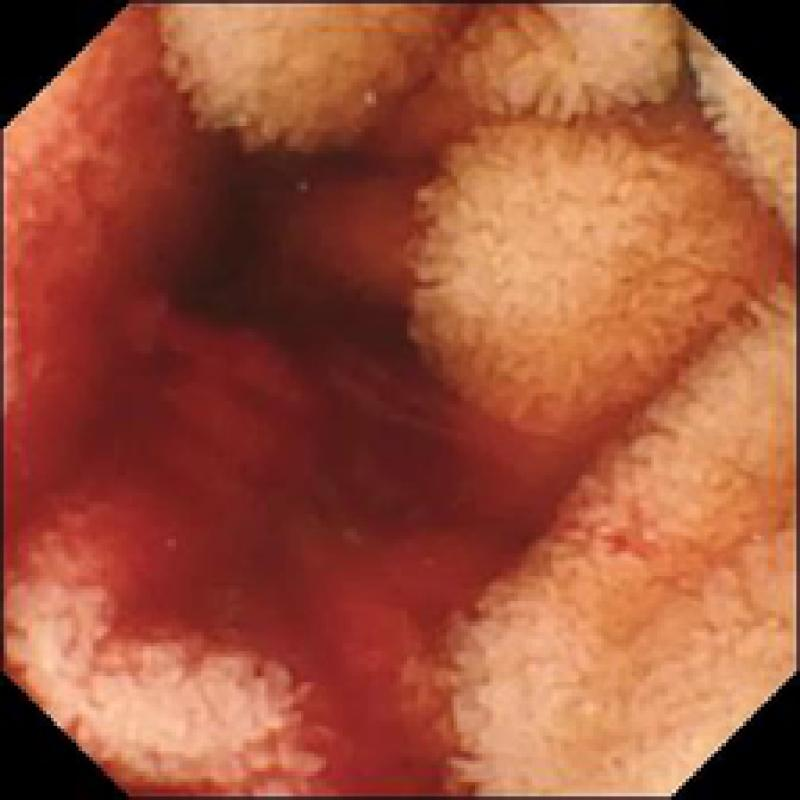bleeding: (0, 75, 604, 793)
